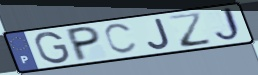C: (103, 21, 139, 55)
G: (33, 30, 72, 65)
J: (212, 5, 245, 44), (146, 17, 173, 51)
P: (66, 24, 102, 63)
Z: (166, 10, 215, 49)
